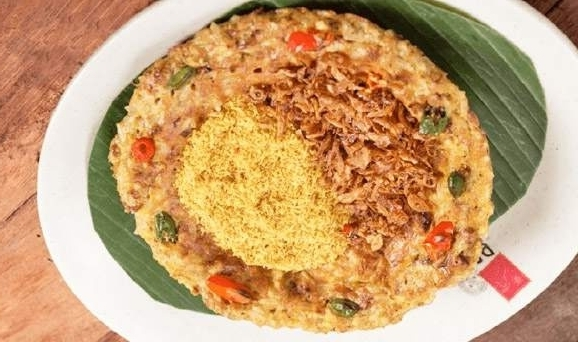kerak_telor: (107, 10, 495, 331)
